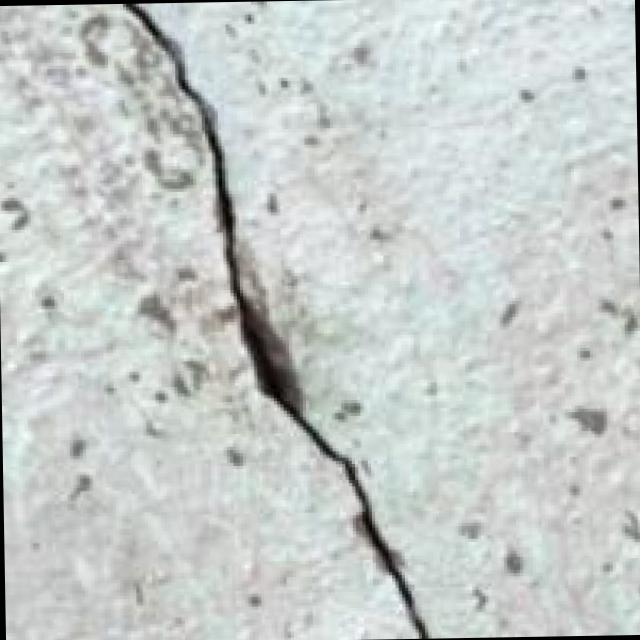crack: (122, 0, 459, 624)
